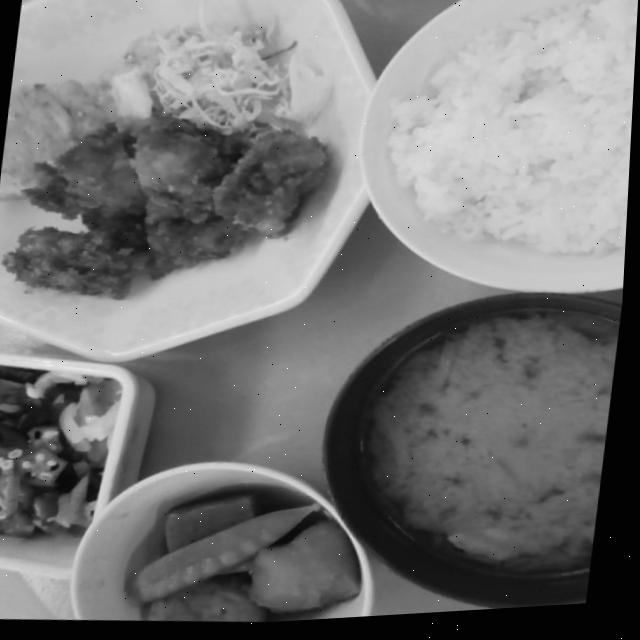米饭主食: (392, 0, 640, 284)
